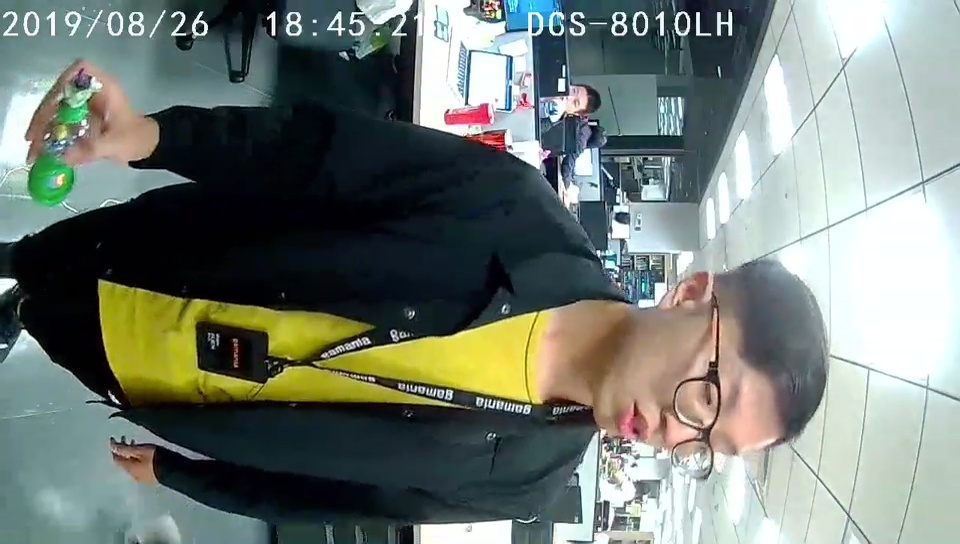buzz: (28, 71, 103, 206)
